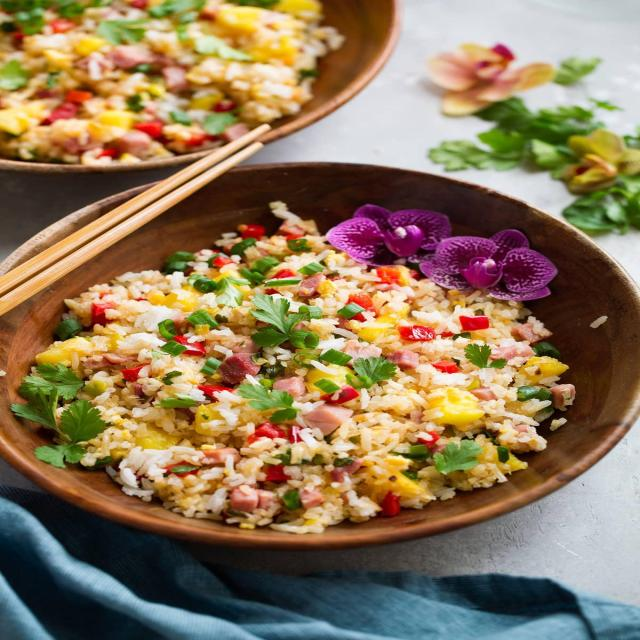Nasi Goreng: (20, 200, 578, 534)
